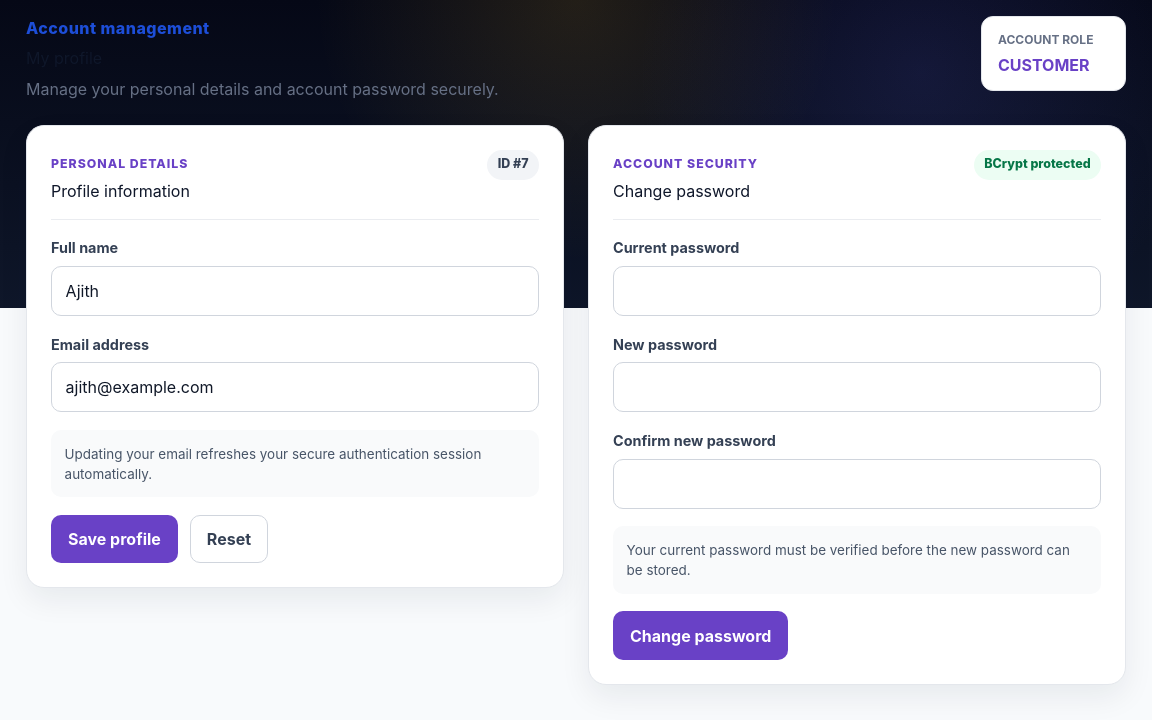
Test: ProfilePage › validates profile fields before saving
This screenshot has width=1152, height=720.
Clear the field labelled "Full name". click: (295, 291)
box: [51,266,539,316]
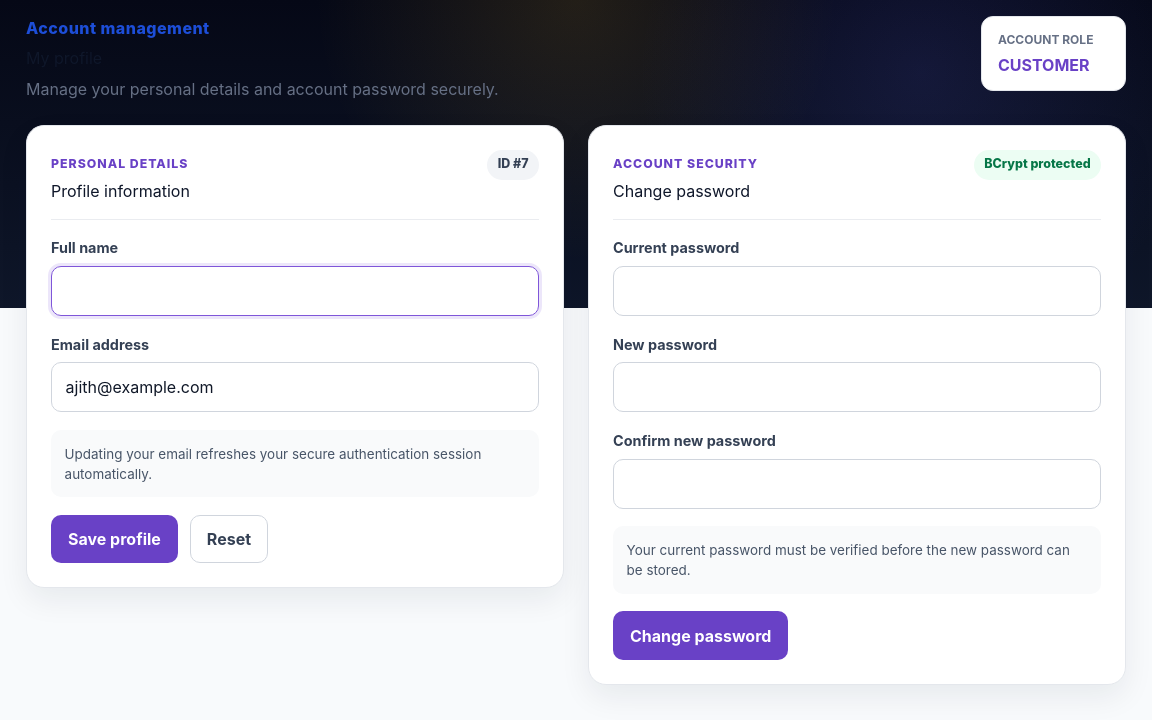
Clear the field labelled "Email address". click: (295, 387)
box: [51,362,539,412]
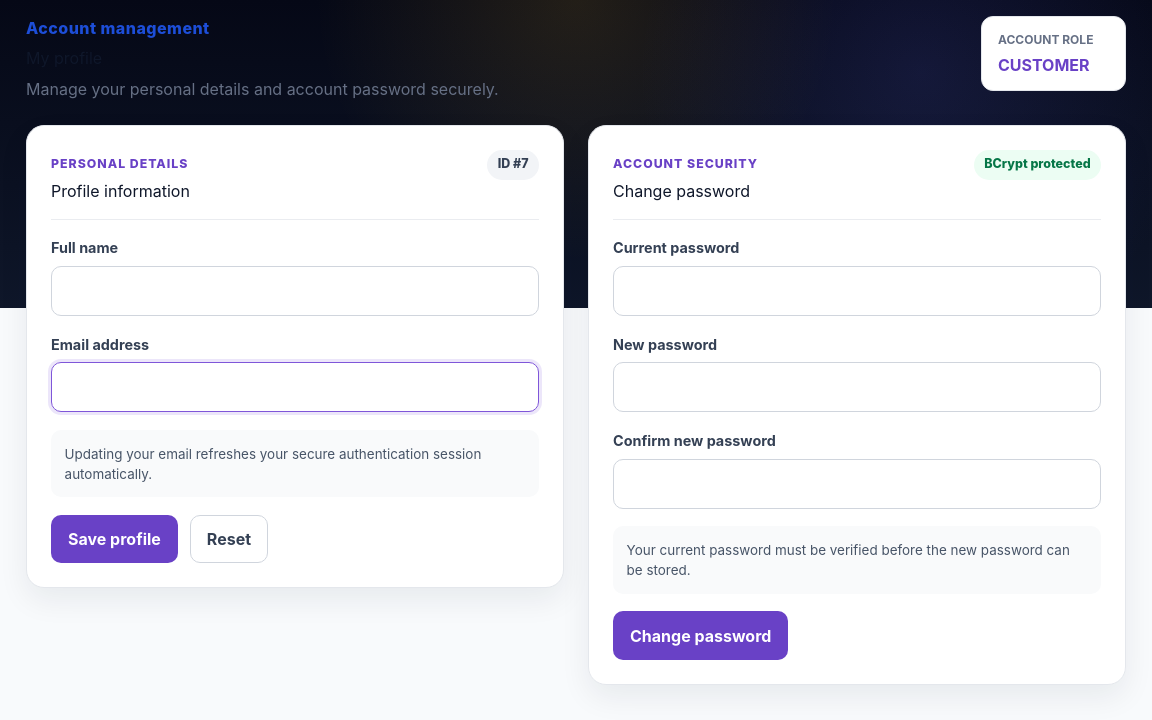
Click the button "Save profile". click: (114, 539)
box: [51,515,178,563]
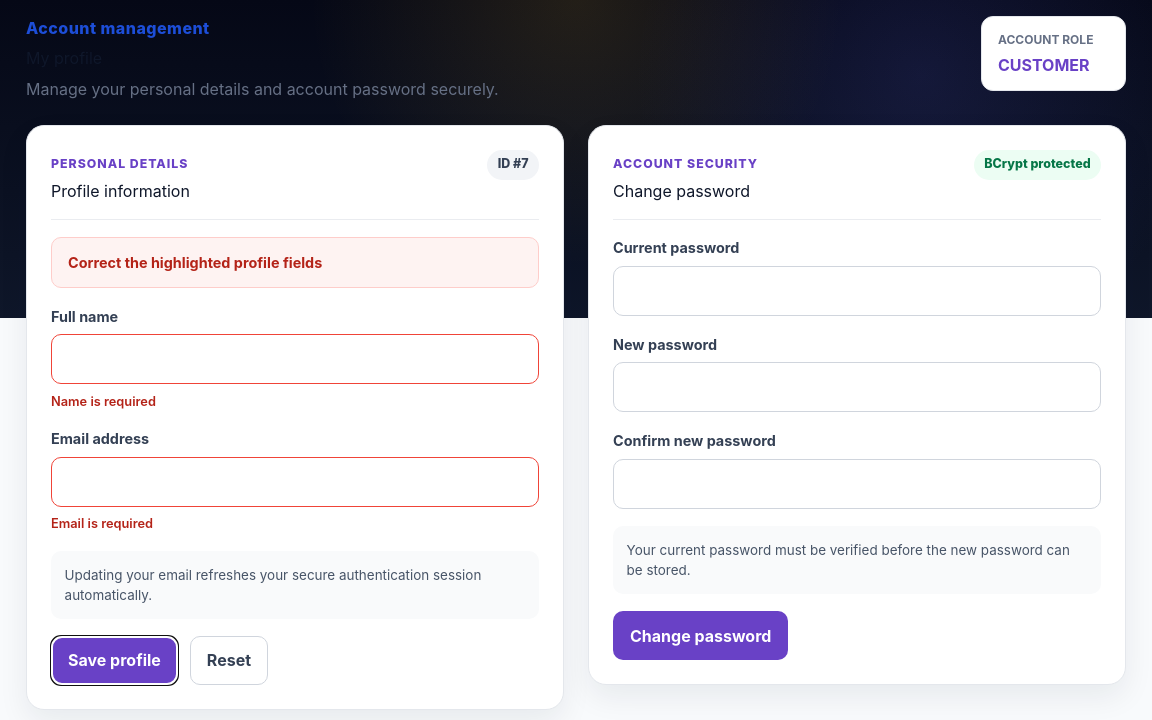
Now the text "Name is required" is shown, box [51,394,156,408]
Now the text "Email is required" is shown, box [51,516,153,531]
